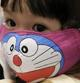with_mask: (1, 2, 80, 83)
